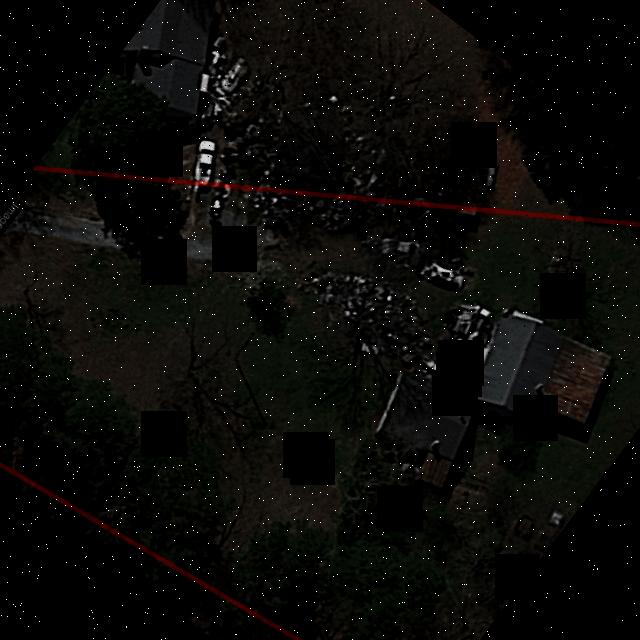Driveway: (12, 208, 120, 247), (149, 228, 254, 260)
House: (366, 309, 610, 491)
